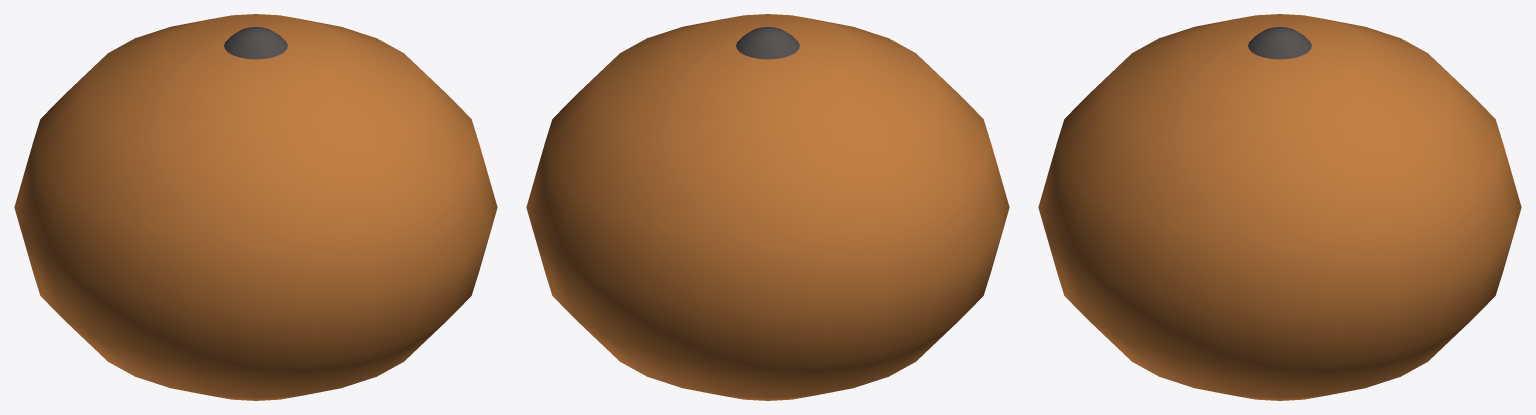
File: orange.fbx
3 renders of one model, left to right at view 1: azimuth 30°, elevation 25°; view 2: azimuth 150°, elevation 25°; view 3: azimuth 270°, elevation 25°, orthographic.
Parts seen in each view (by area): view 1: orange; view 2: orange; view 3: orange.
Boxes of the visible parts, <box> form: orange: <box>14,14,497,400</box>; orange: <box>526,14,1009,400</box>; orange: <box>1038,14,1521,400</box>.
Size of the model in its own units: 8.3 by 8.3 by 6.52.
